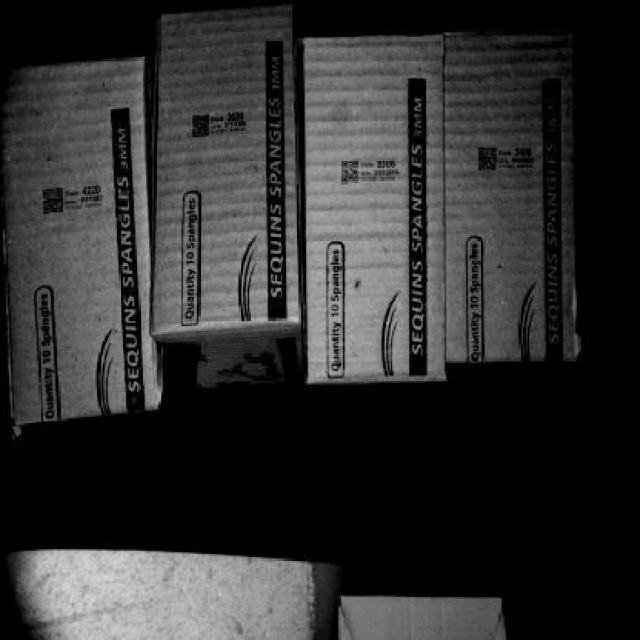box: (4, 71, 154, 414), (302, 37, 442, 377), (165, 9, 304, 336), (447, 24, 575, 370)
